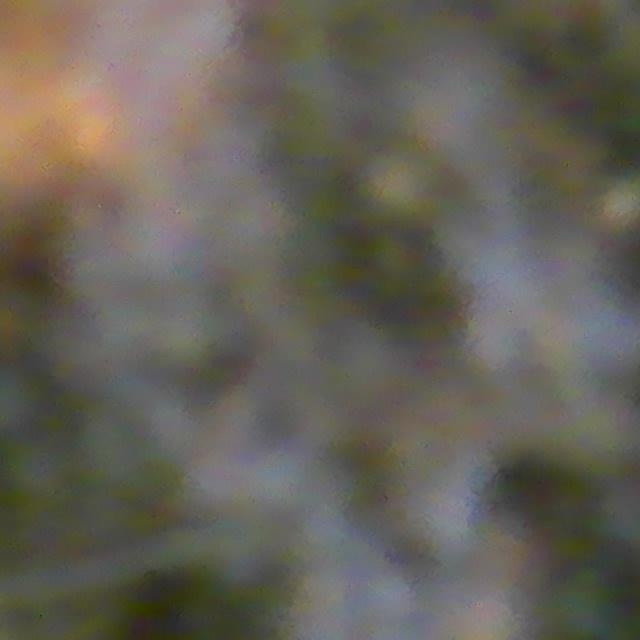SeaGrape: (353, 572, 411, 640)
